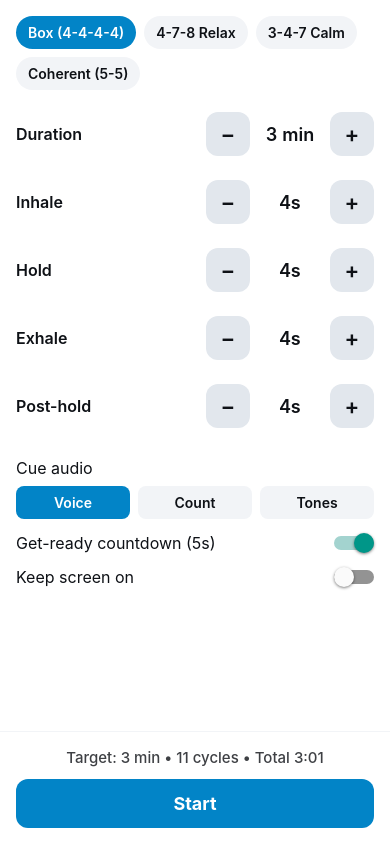
Test: BreatheScreen: settings editing (US2) › + on Inhale updates the store, unmarks preset, and updates total
Check: the text "Target: 3 min • 11 cycles • Total 3:01" is shown, box [66,748,324,767]
Click the button named "Increase Inhale" at (352,202), box [330,180,374,224]
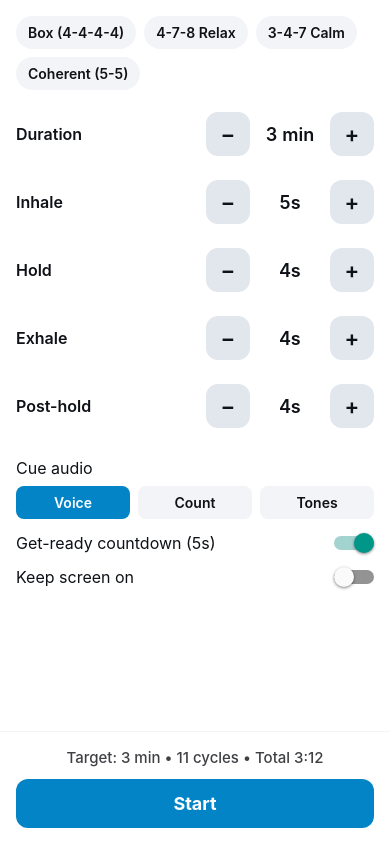
Check: the text "Target: 3 min • 11 cycles • Total 3:12" is shown, box [66,748,324,767]
